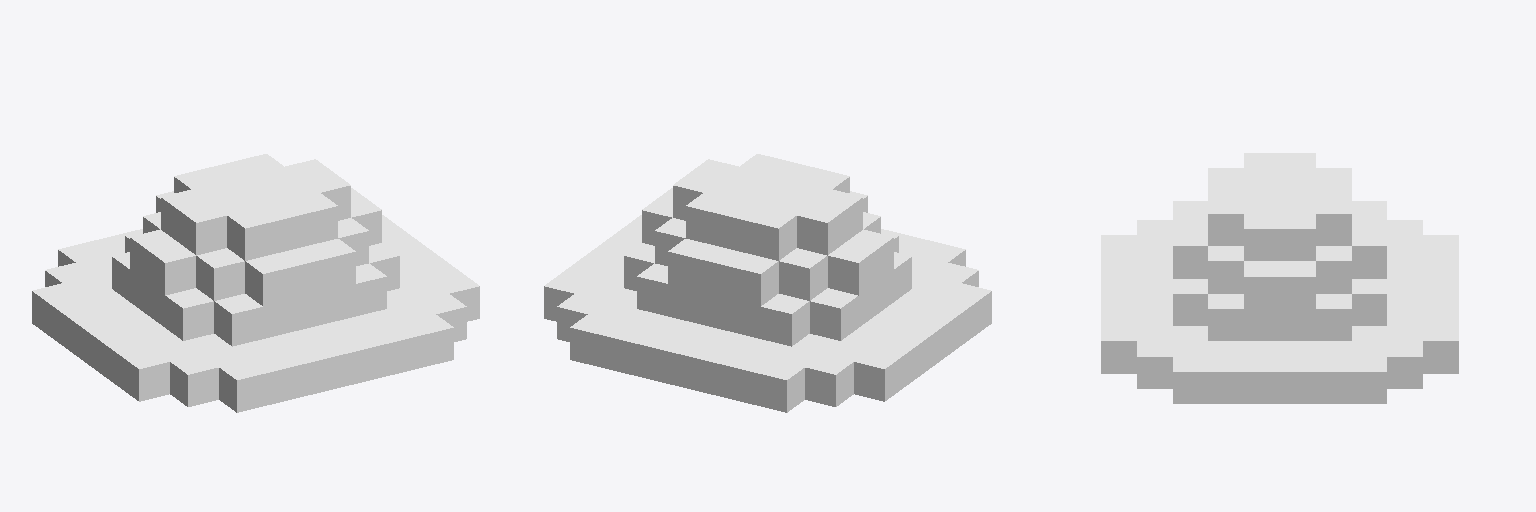
File: cowboy_hat.obj
3 views of the same model, side by side, from view 1: azimuth 30°, elevation 25°; view 2: azimuth 150°, elevation 25°; view 3: azimuth 270°, elevation 25° (orthographic).
Size of the model in its own units: 11 by 4 by 10.